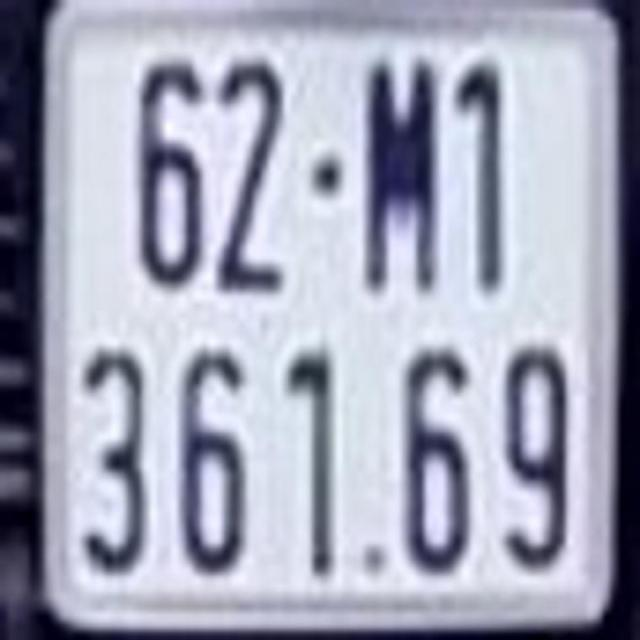1: (446, 48, 520, 293), (276, 342, 351, 580)
2: (212, 53, 285, 296)
3: (81, 343, 148, 579)
6: (396, 339, 474, 575), (175, 336, 249, 578), (135, 53, 204, 284)
9: (498, 333, 571, 576)
H: (362, 56, 442, 294)
